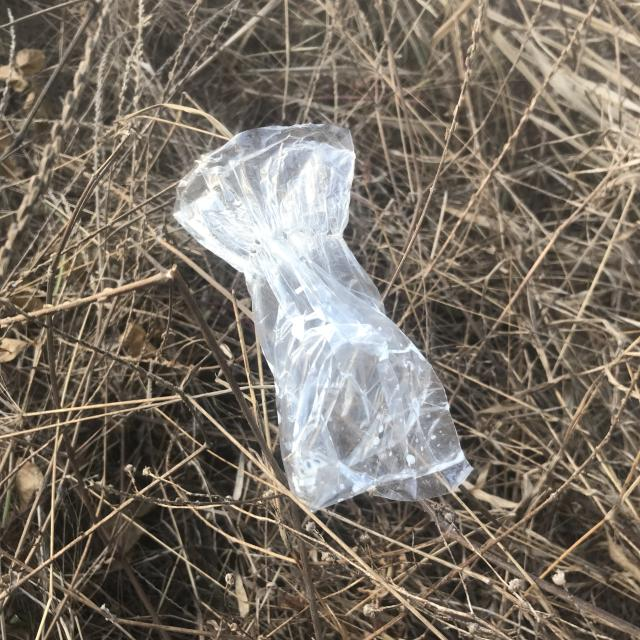Single-layer Plastic: (167, 113, 492, 526)
